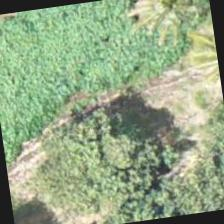Kelapa_Sawit: (138, 0, 216, 57)
